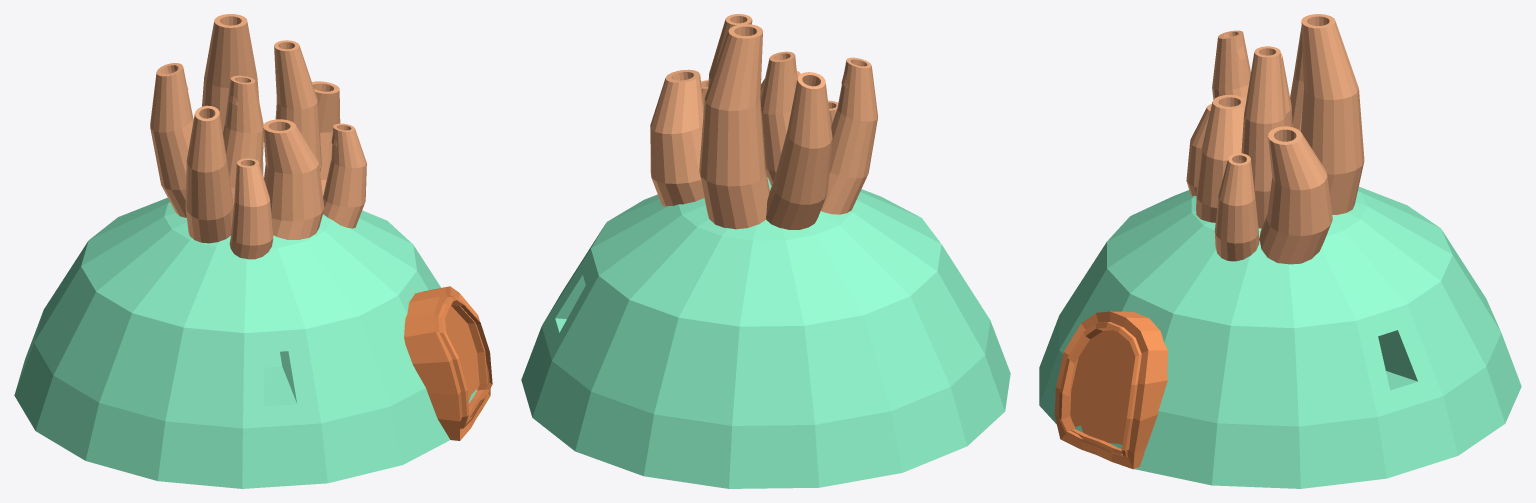
File: casa 3_COLORES_BASE.fbx
3 renders of one model, left to right at view 1: azimuth 30°, elevation 25°; view 2: azimuth 150°, elevation 25°; view 3: azimuth 270°, elevation 25°, orthographic. The views are drawn at different scales.
Visible parts, largest first — view 1: Cilindro, Cilindro.010, Cilindro.001; view 2: Cilindro, Cilindro.010; view 3: Cilindro, Cilindro.010, Cilindro.001.
Boxes of the visible parts, box(x1,y1,x2,y2) form: Cilindro: box(14, 197, 477, 488); Cilindro.010: box(150, 14, 366, 259); Cilindro.001: box(404, 286, 492, 440); Cilindro: box(521, 177, 1010, 488); Cilindro.010: box(650, 14, 877, 229); Cilindro: box(1039, 186, 1521, 488); Cilindro.010: box(1186, 14, 1364, 264); Cilindro.001: box(1054, 311, 1167, 469).
Bounding box in the file's own units: 812 × 677 × 809.
